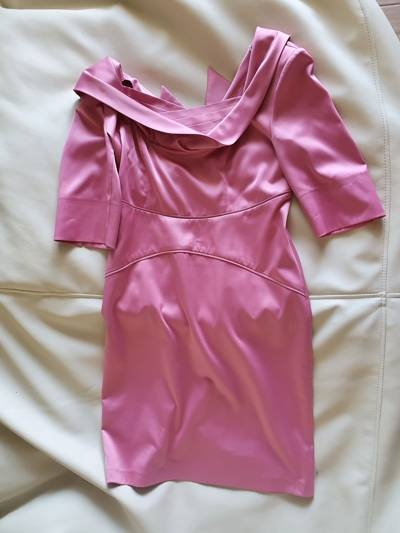Dress: (33, 37, 389, 505)
